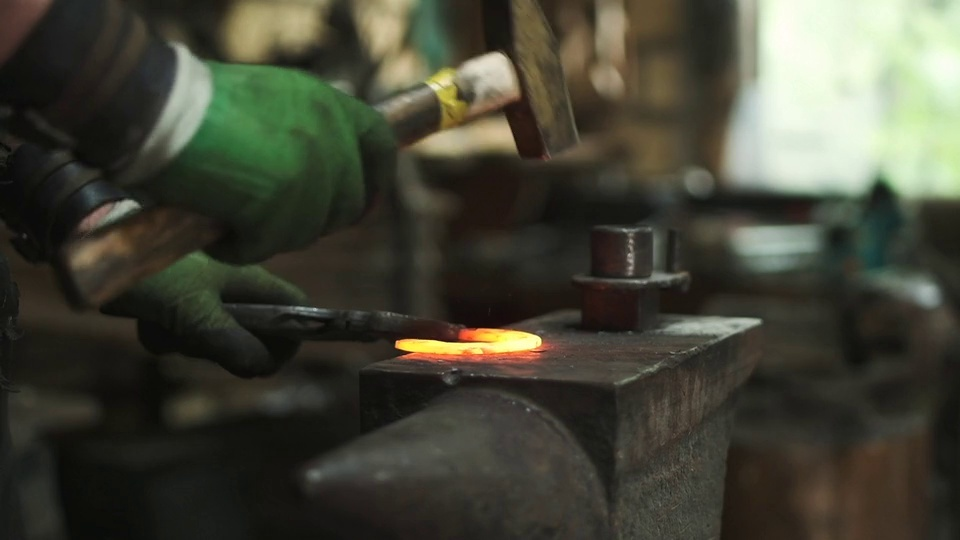hammer: (55, 2, 584, 322)
